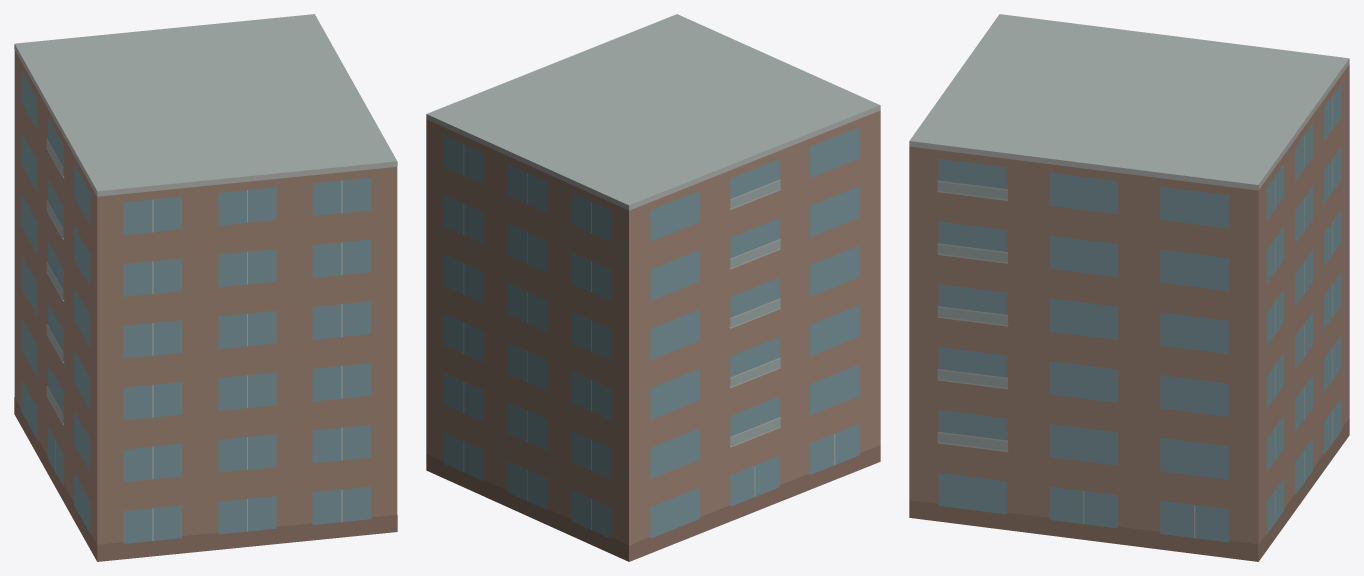
The model's file is survey-upis-32874829.glb.
3 views of the same model, side by side, from view 1: azimuth 30°, elevation 25°; view 2: azimuth 150°, elevation 25°; view 3: azimuth 270°, elevation 25° (orthographic). The views are drawn at different scales.
Parts seen in each view (by area): view 1: survey-upis-32874829.tmp; view 2: survey-upis-32874829.tmp; view 3: survey-upis-32874829.tmp.
Boxes of the visible parts, x1,y1,x2,y2 form: survey-upis-32874829.tmp: (14,14,397,561); survey-upis-32874829.tmp: (426,14,880,561); survey-upis-32874829.tmp: (909,14,1349,561).
Bounding box in the file's own units: 16.27 × 16.7 × 17.69.
